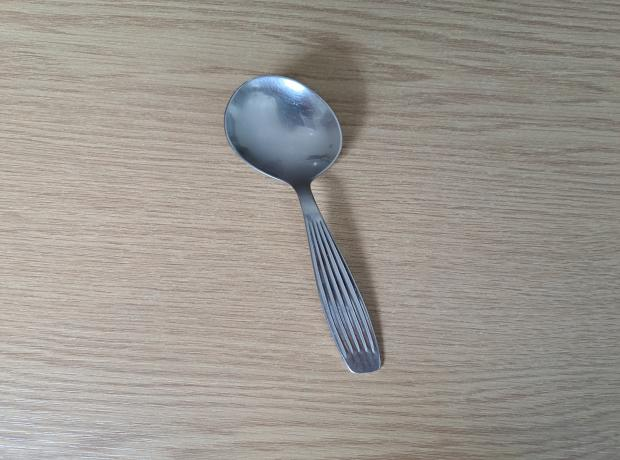metal: (218, 76, 387, 372)
